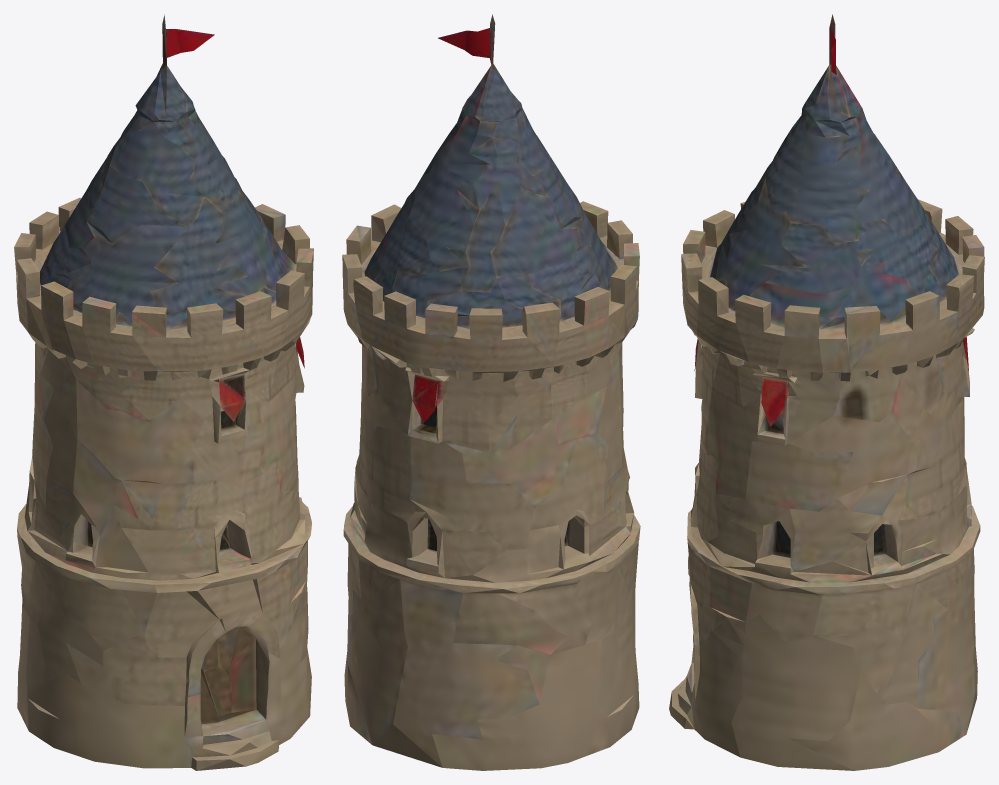
Rendered from citytower.glb.
The picture shows the model from 3 angles, left to right: view 1: azimuth 30°, elevation 25°; view 2: azimuth 150°, elevation 25°; view 3: azimuth 270°, elevation 25°; orthographic projection.
Size of the model in its own units: 0.736 by 1.9 by 0.7831.
Materials: 1 (1 with a texture image).
